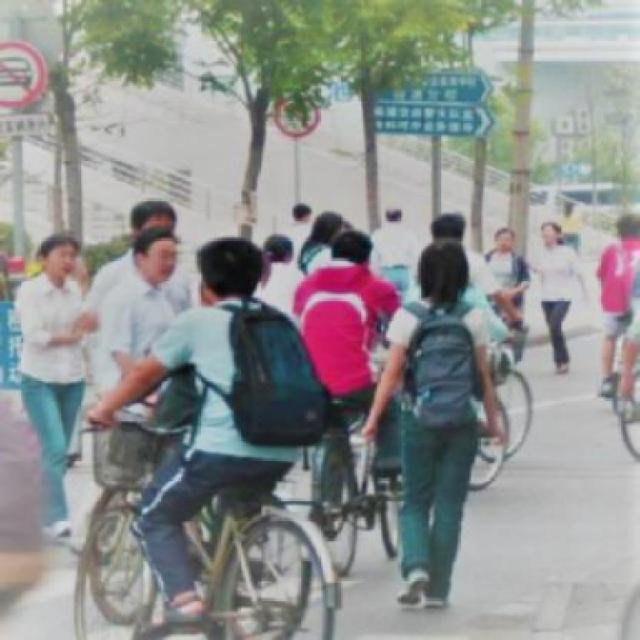Person: (141, 243, 310, 629), (364, 239, 514, 616), (9, 233, 89, 542), (290, 228, 402, 442), (100, 223, 183, 440), (533, 211, 590, 384), (485, 223, 526, 349)
